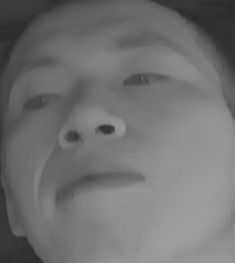eye: (117, 64, 175, 97), (17, 83, 68, 115)
mouth: (47, 158, 144, 205)
